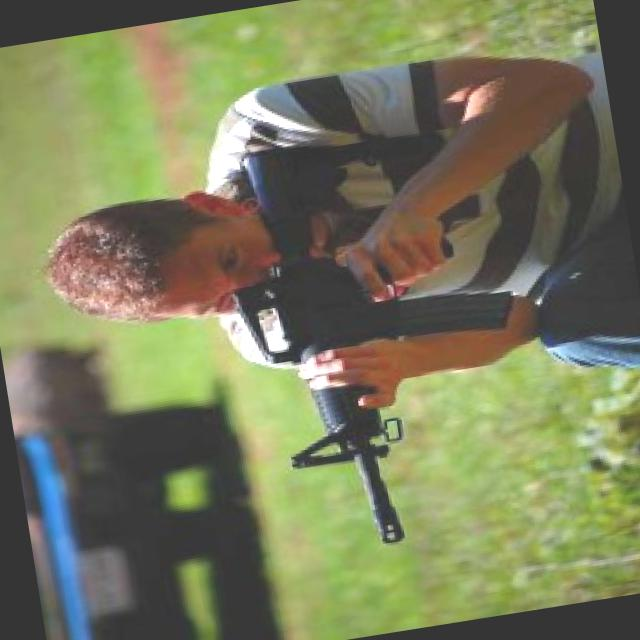long weapon: (220, 112, 490, 561)
